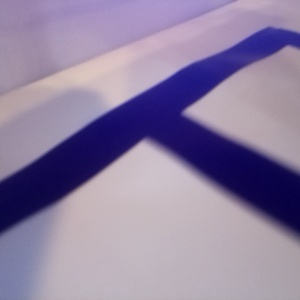bottom_right: (80, 23, 167, 48)
